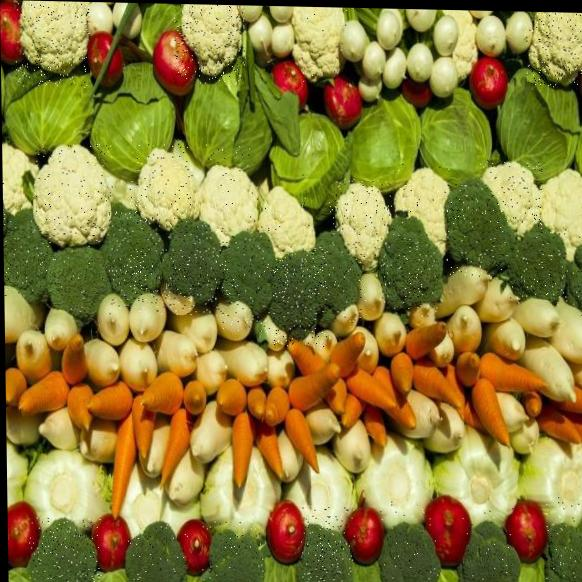Broccoli: (446, 181, 511, 278), (160, 222, 222, 316), (108, 210, 164, 313), (272, 246, 328, 347), (220, 226, 271, 332), (381, 225, 438, 317), (380, 498, 438, 582), (313, 235, 367, 325), (29, 516, 102, 582), (50, 243, 111, 319), (509, 228, 568, 306), (299, 503, 357, 582), (461, 506, 515, 582), (201, 518, 264, 582), (3, 219, 53, 297), (128, 519, 189, 582), (545, 496, 582, 582), (572, 235, 582, 316)
Cauliflower: (31, 143, 114, 259), (15, 0, 90, 88), (397, 159, 456, 261), (174, 4, 246, 84), (204, 145, 260, 246), (129, 143, 193, 228), (478, 159, 544, 239), (288, 6, 349, 91), (329, 179, 393, 258), (263, 168, 315, 253), (526, 12, 582, 88), (2, 136, 43, 221)
